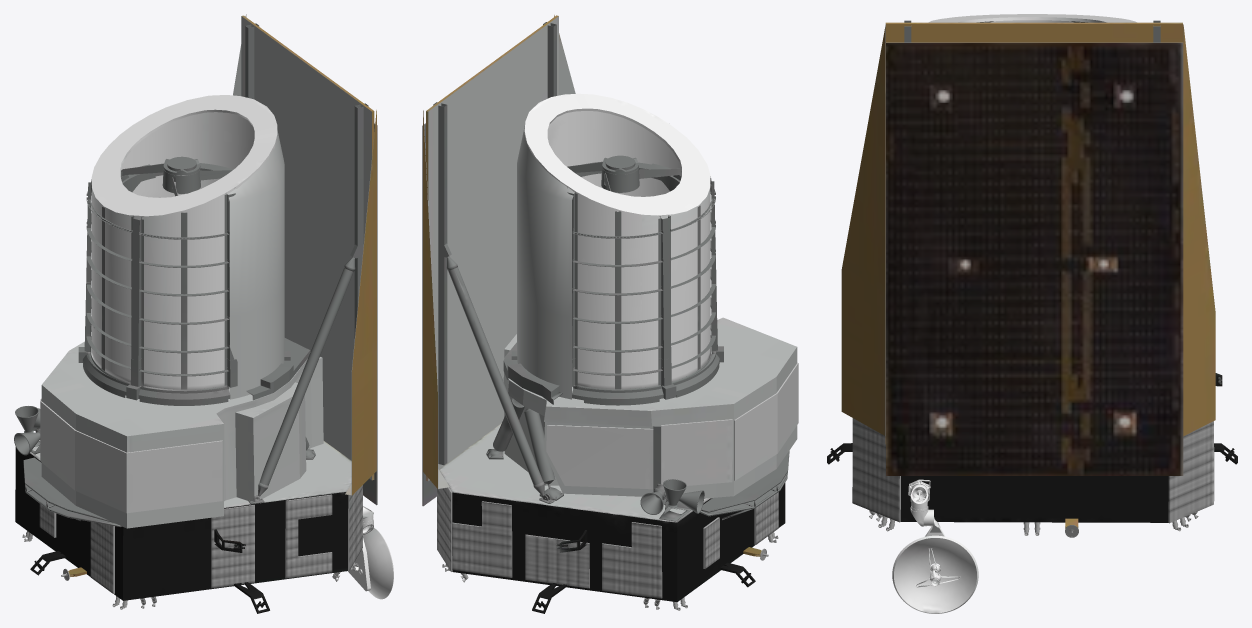
Rendered from euclid.glb.
3 renders of one model, left to right at view 1: azimuth 30°, elevation 25°; view 2: azimuth 150°, elevation 25°; view 3: azimuth 270°, elevation 25°, orthographic. The views are drawn at different scales.
Visible parts, largest first — view 1: Euclid; view 2: Euclid; view 3: Euclid.
Part boxes in pixels (x1,y1,x2,y2): Euclid: (14, 14, 393, 613); Euclid: (422, 15, 798, 613); Euclid: (827, 14, 1237, 613).
Bounding box in the file's own units: 339 × 530 × 341.
Materials: 1 (1 with a texture image).
